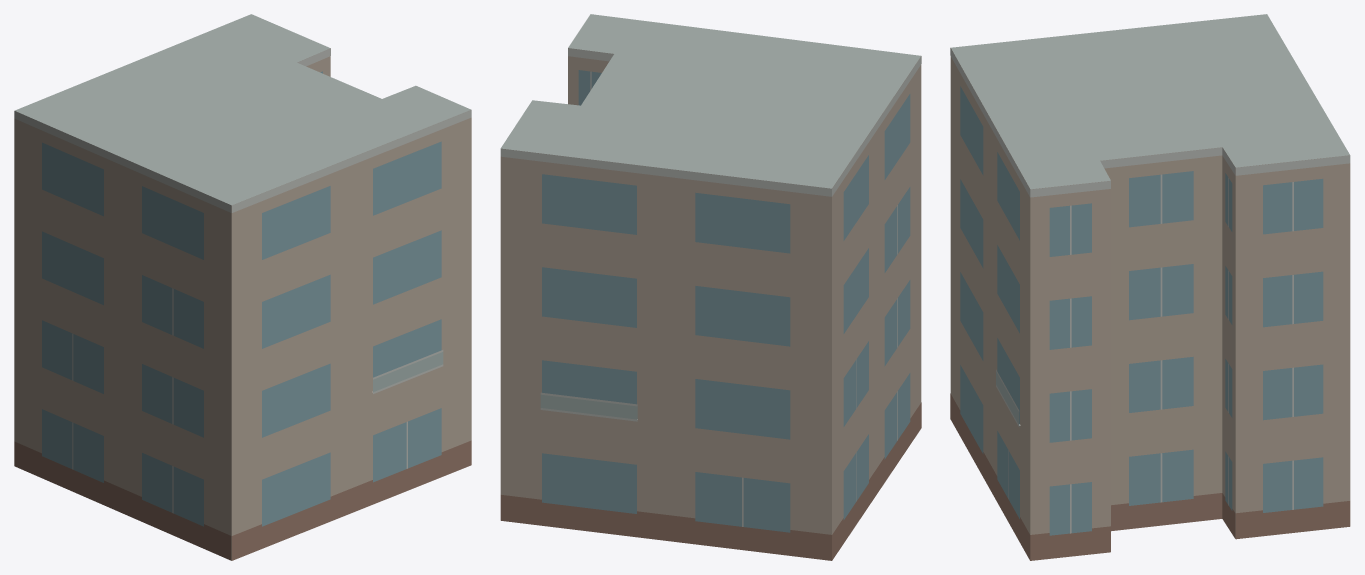
The model's file is survey-upis-32988137.glb.
3 views of the same model, side by side, from view 1: azimuth 30°, elevation 25°; view 2: azimuth 150°, elevation 25°; view 3: azimuth 270°, elevation 25° (orthographic). The views are drawn at different scales.
Parts seen in each view (by area): view 1: survey-upis-32988137.tmp; view 2: survey-upis-32988137.tmp; view 3: survey-upis-32988137.tmp.
Boxes of the visible parts, box(x1,y1,x2,y2) form: survey-upis-32988137.tmp: box(14, 14, 471, 560); survey-upis-32988137.tmp: box(500, 14, 921, 560); survey-upis-32988137.tmp: box(950, 14, 1350, 560).
Bounding box in the file's own units: 11.25 × 11.1 × 10.83.
